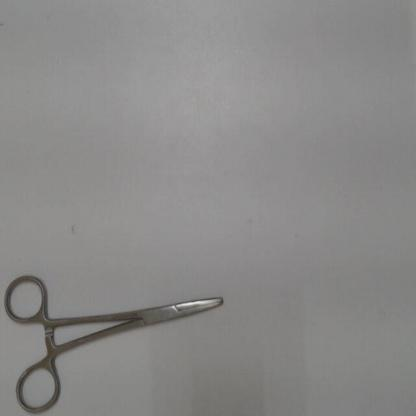Mayo Needle Holder: (0, 267, 235, 415)
